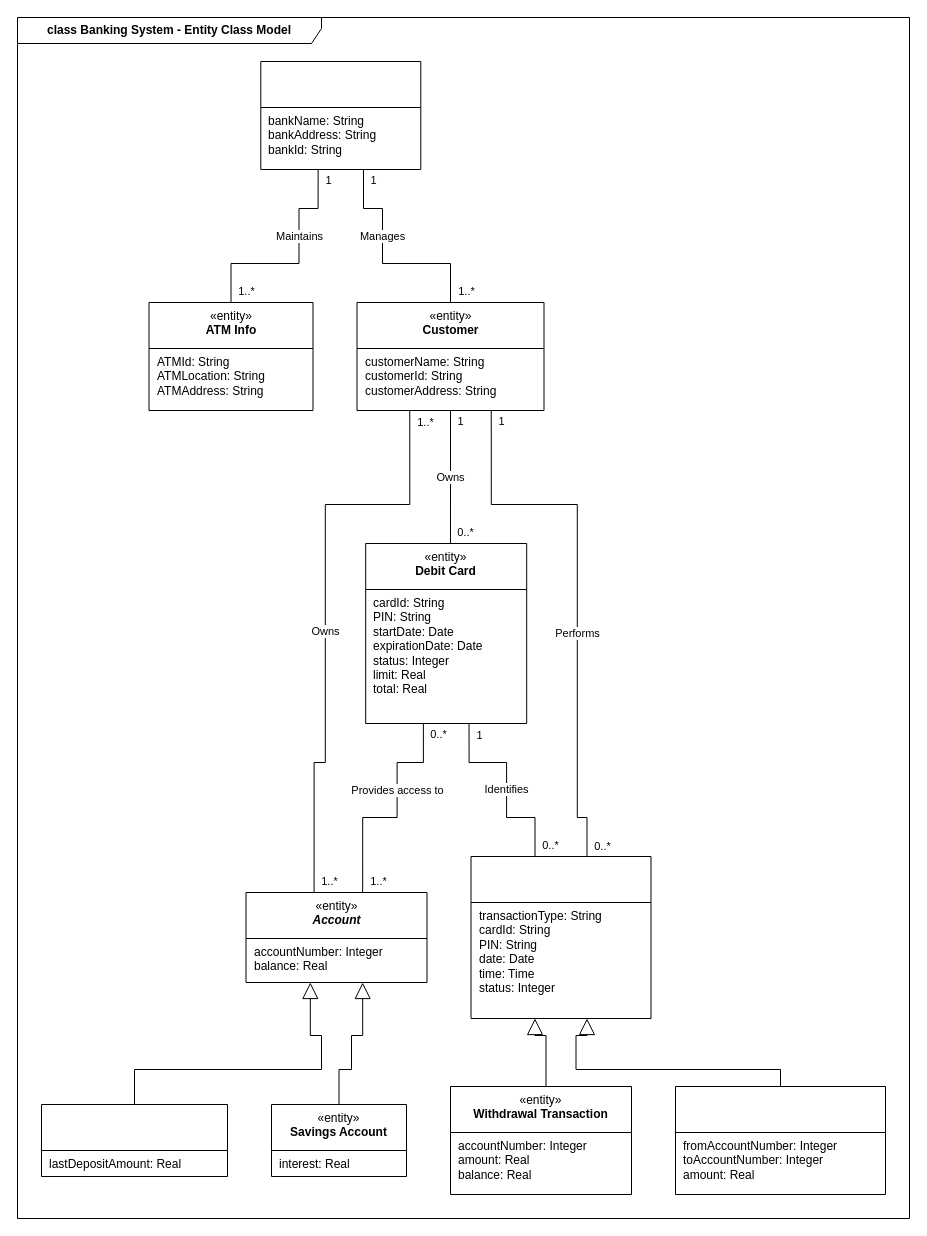
Some shapes in this 927 by 1236 pixel diagram are drawn without their labels. Each missing label, with the box of its shape:
«entity» ATM Transaction: (470, 856, 651, 1018)
«entity» Bank: (260, 60, 421, 170)
«entity» Checking Account: (40, 1104, 228, 1176)
«entity» Transfer Transaction: (674, 1086, 886, 1194)
